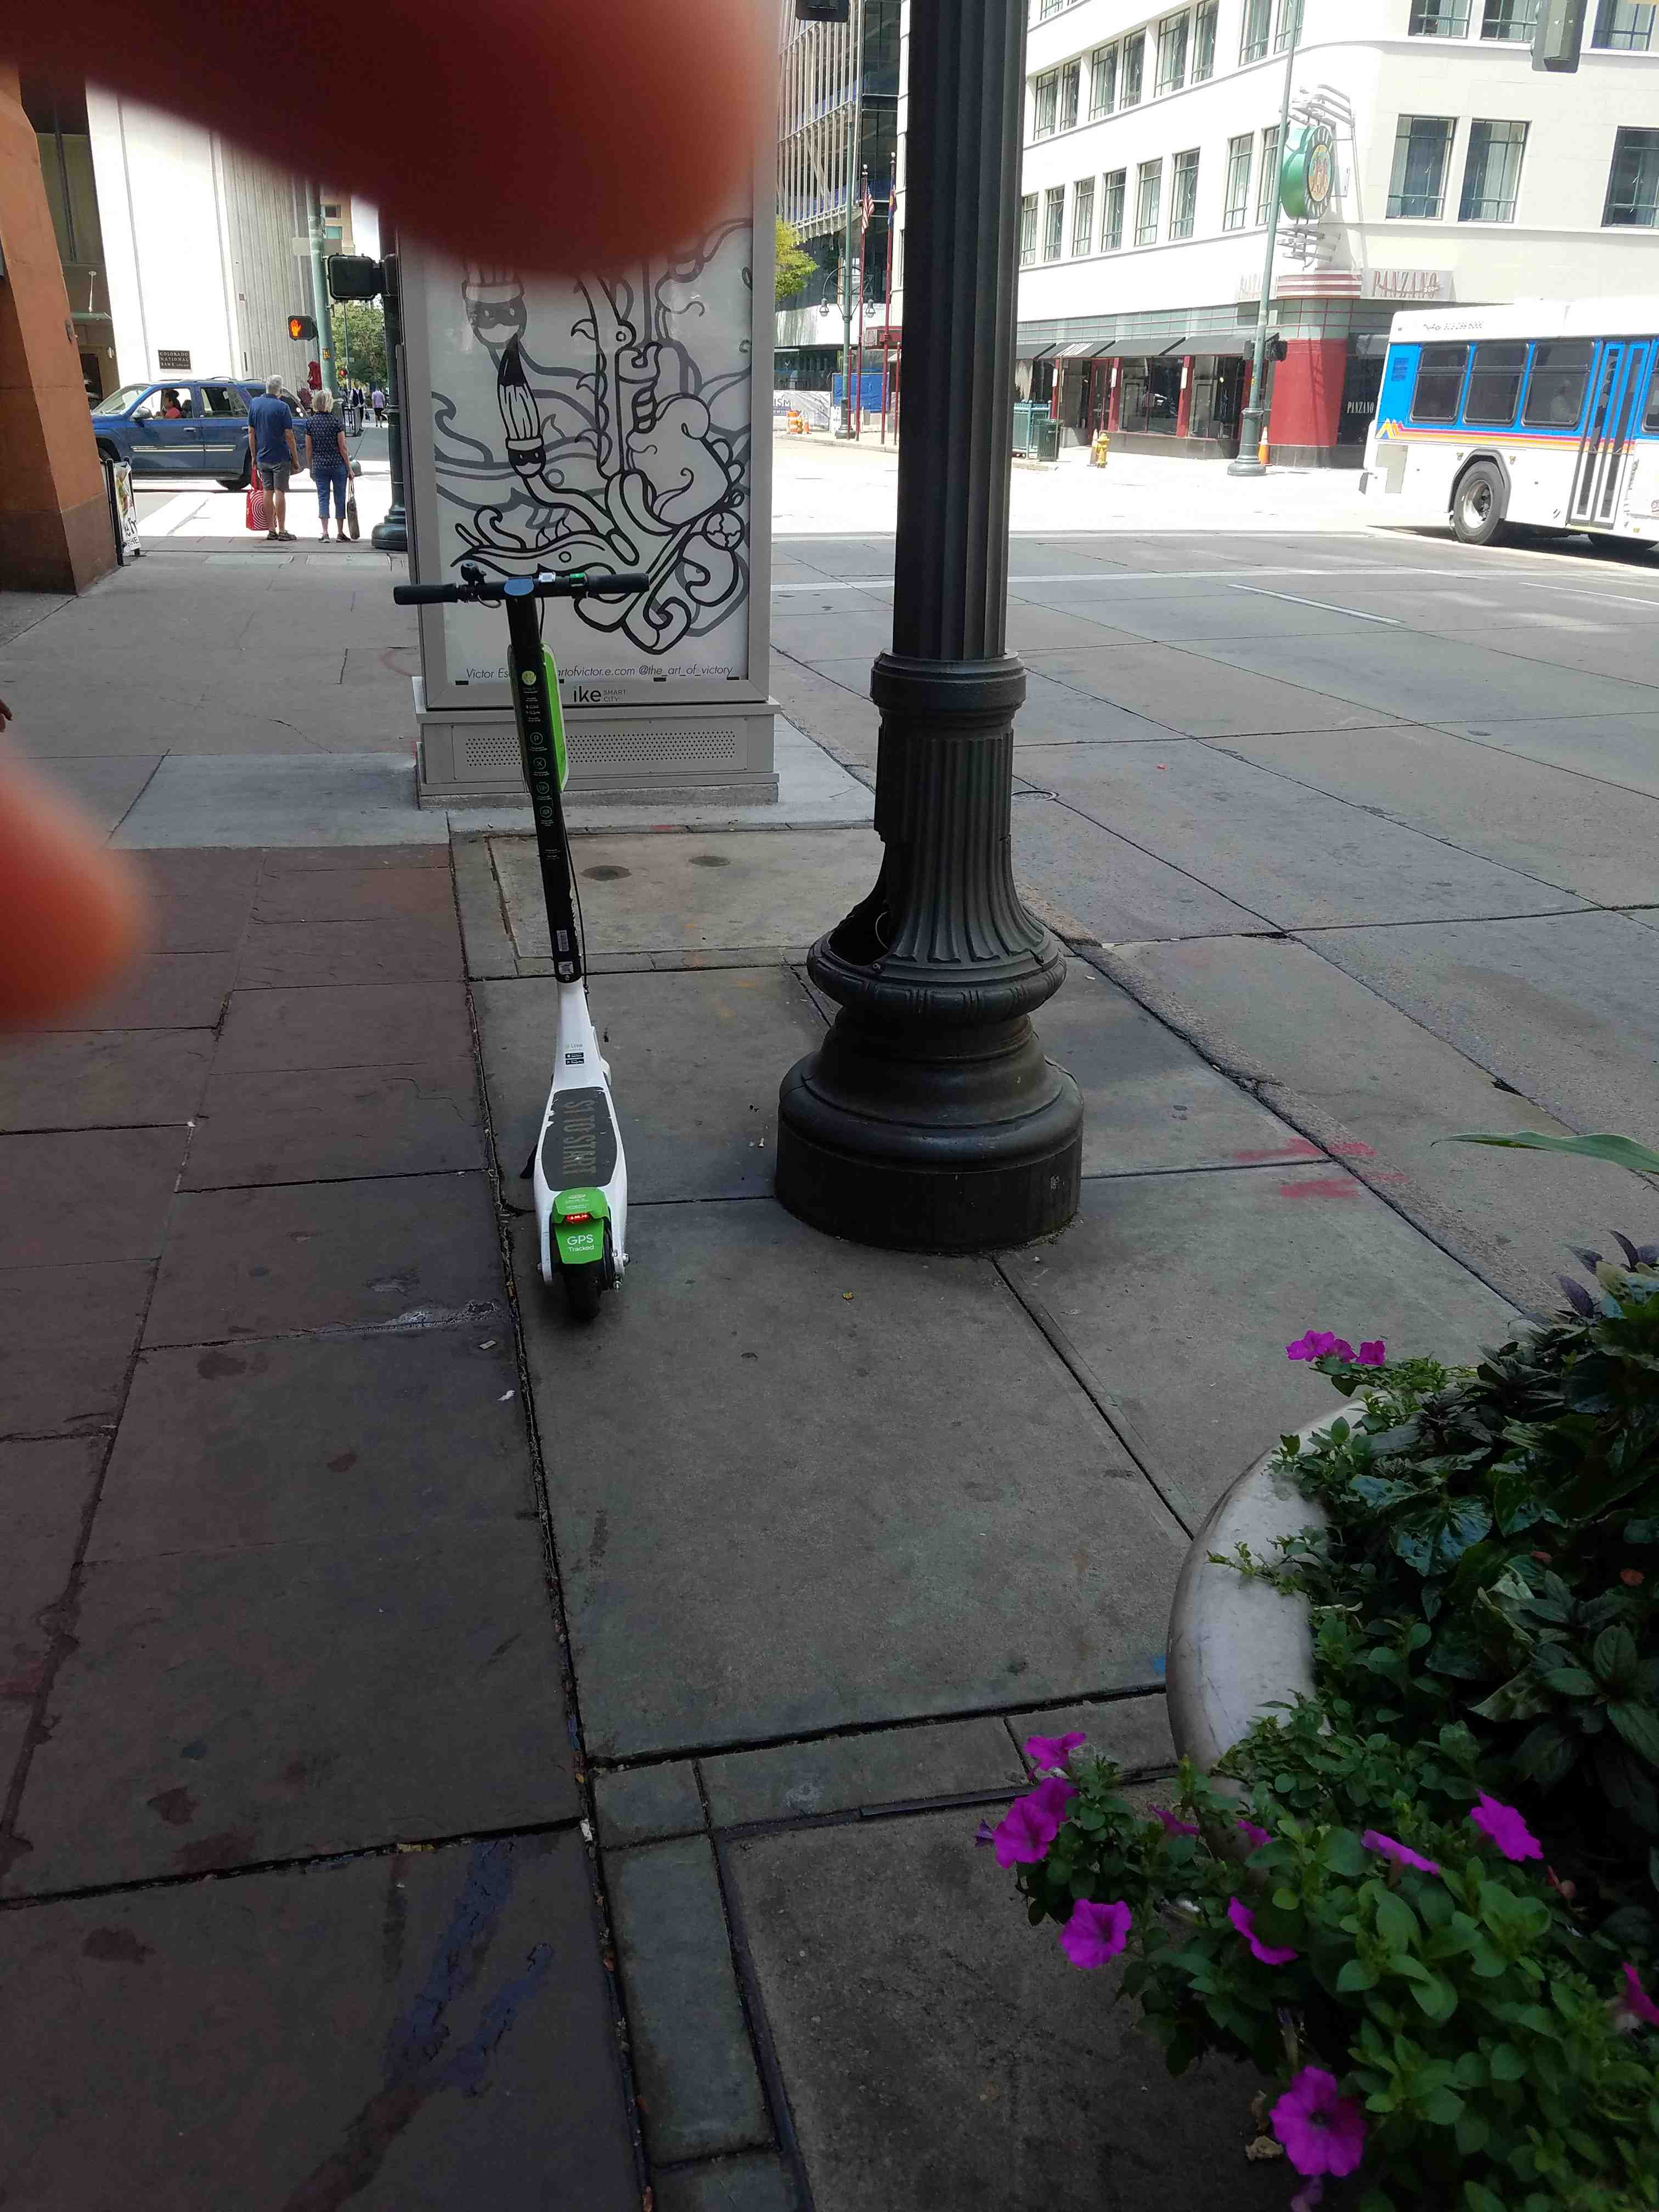scooter: (375, 603, 701, 1359)
